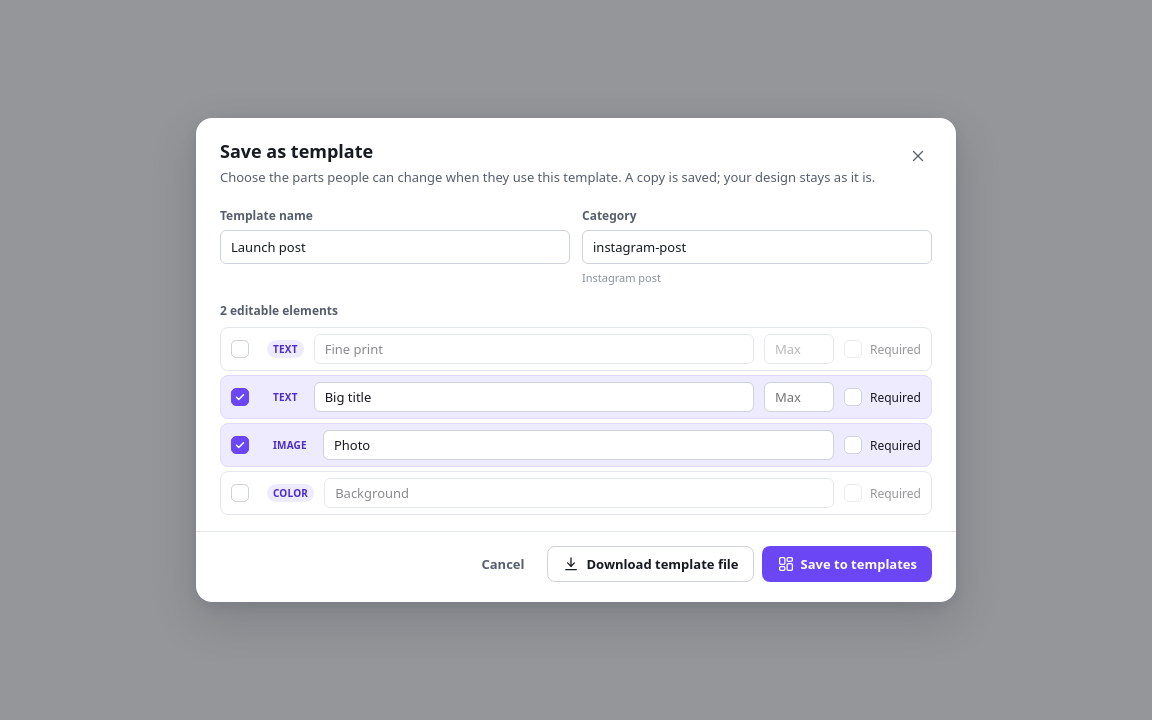
Test: SaveAsTemplateDialog › refuses a max length shorter than the placeholder text
Type "2" into the field named "Maximum characters for Big title" at point(799, 397), box [764,382,834,412]
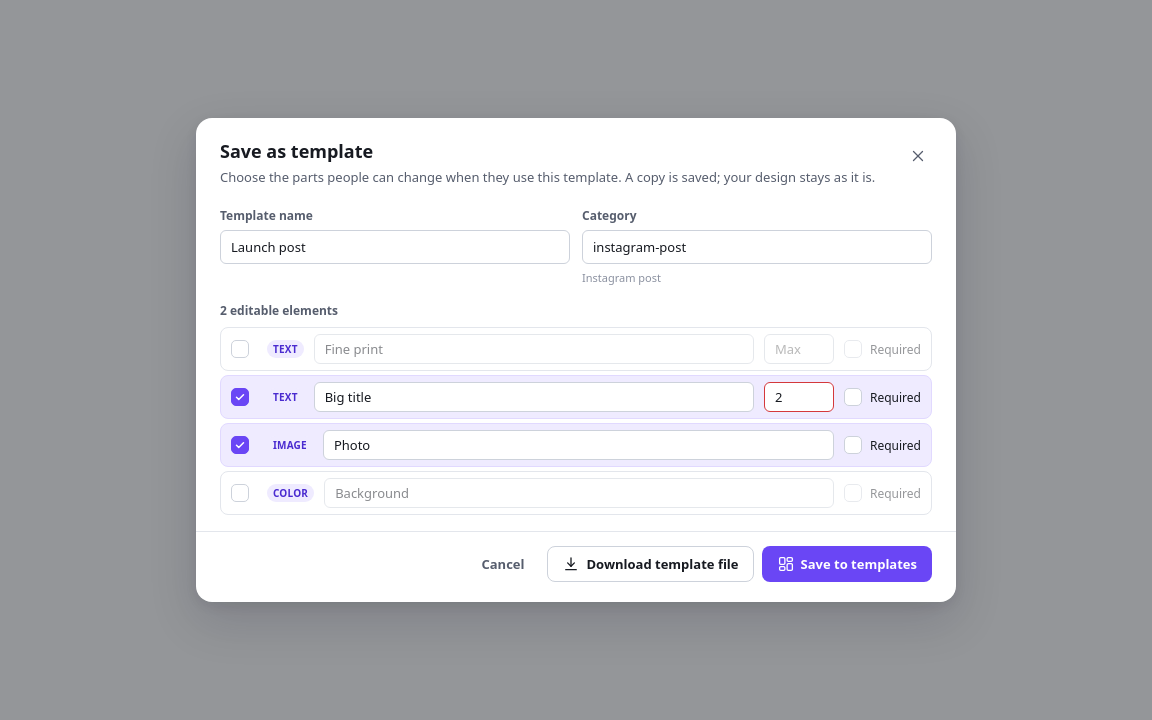
Click the button "Save to templates" at point(847, 564), box [762,546,932,582]
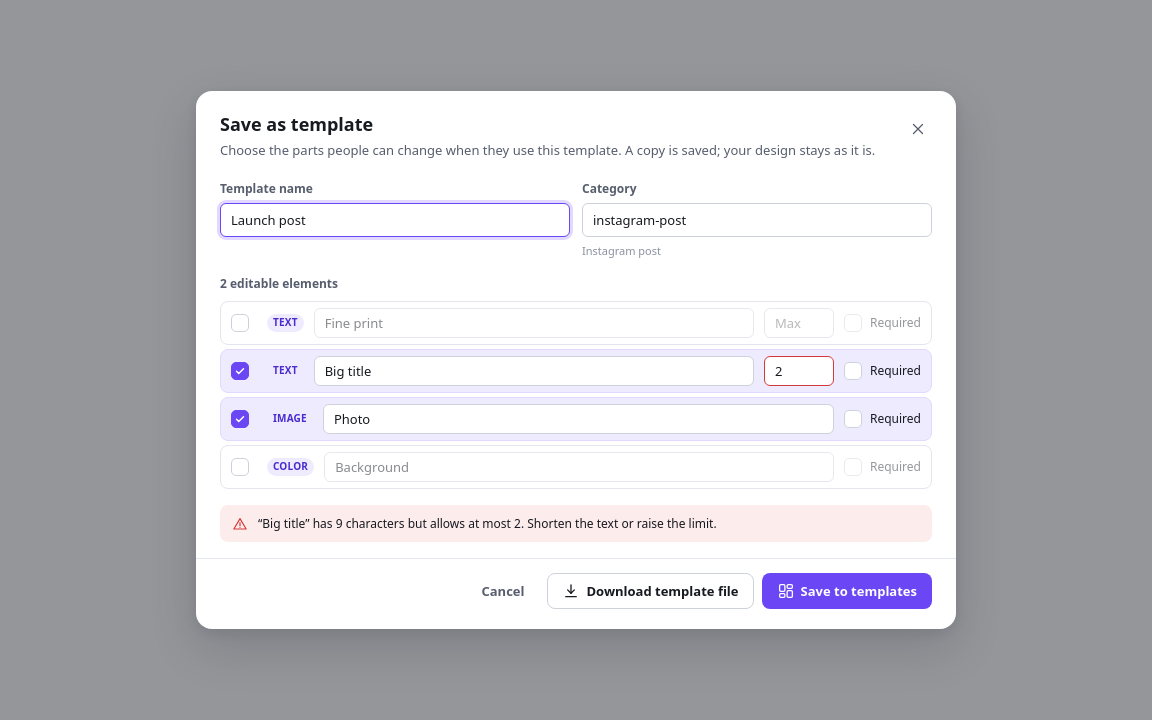
Expected: the text "allows at most 2. Shorten the text or raise the limit." is shown, [258,515,717,532]
